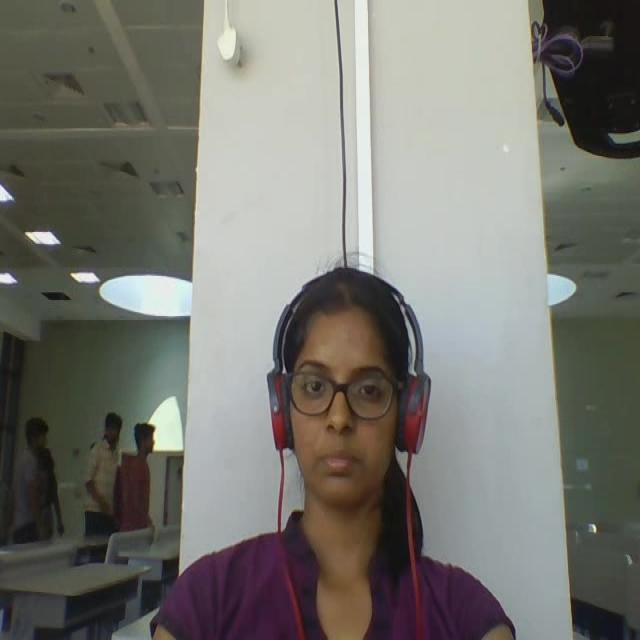Engaged: (252, 241, 455, 526)
